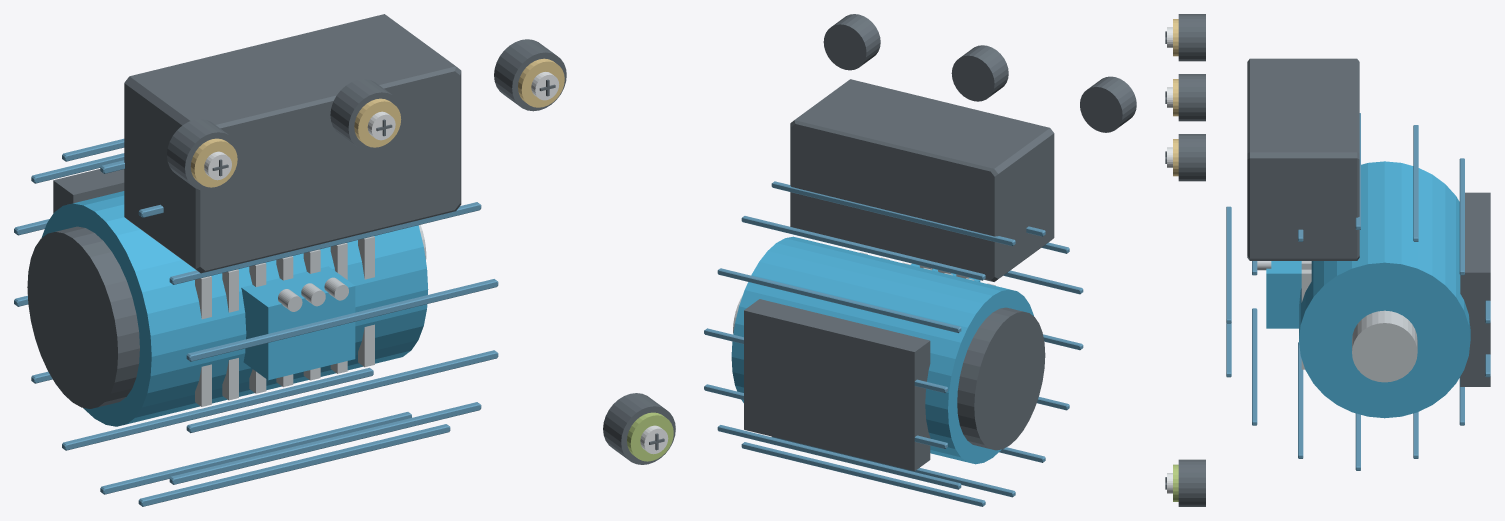
The model's file is motor3Phase.glb.
3 views of the same model, side by side, from view 1: azimuth 30°, elevation 25°; view 2: azimuth 150°, elevation 25°; view 3: azimuth 270°, elevation 25° (orthographic). The views are drawn at different scales.
Parts seen in each view (by area): view 1: motor3Phase-detailed; view 2: motor3Phase-detailed; view 3: motor3Phase-detailed.
Boxes of the visible parts, x1=… form: motor3Phase-detailed: x1=14, y1=14, x2=675, y2=506; motor3Phase-detailed: x1=704, y1=14, x2=1136, y2=506; motor3Phase-detailed: x1=1165, y1=14, x2=1490, y2=506.
Bounding box in the file's own units: 2.81 × 2.47 × 2.15.
